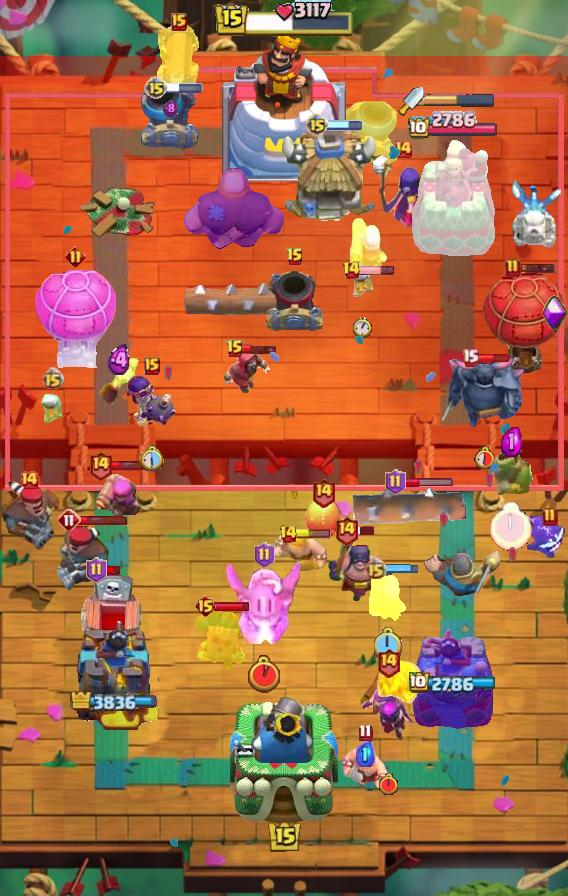bar: (403, 477, 454, 488), (78, 515, 128, 526), (110, 460, 160, 471), (519, 262, 556, 274), (242, 343, 278, 355), (476, 352, 511, 364), (214, 601, 251, 612), (358, 265, 395, 276), (384, 563, 420, 574), (327, 120, 363, 131), (165, 83, 203, 93), (295, 529, 331, 539), (356, 525, 376, 536), (105, 565, 122, 576)
bar-level: (376, 647, 401, 678), (334, 515, 359, 546), (311, 477, 336, 508), (88, 450, 113, 481), (57, 508, 81, 532), (305, 113, 329, 137), (144, 76, 168, 100), (194, 594, 217, 618), (86, 557, 107, 583), (254, 542, 275, 568), (385, 469, 406, 495), (364, 557, 387, 580), (41, 367, 64, 390), (65, 246, 86, 267), (19, 470, 39, 490), (393, 139, 413, 159), (279, 524, 298, 544), (342, 260, 361, 280), (226, 339, 244, 359), (286, 247, 304, 267), (462, 348, 479, 367), (542, 507, 558, 527), (505, 258, 521, 278), (144, 357, 160, 375), (171, 13, 187, 31), (358, 723, 373, 742)
barbarian: (333, 746, 397, 792), (274, 531, 328, 575)
bomber-evolution: (125, 373, 179, 429)
clock: (490, 502, 532, 551), (248, 655, 280, 693), (374, 627, 403, 661), (140, 445, 165, 472), (378, 773, 399, 796), (474, 446, 494, 469), (353, 317, 372, 338)
dagger-duchess-tower: (409, 138, 497, 256)
dagger-duchess-tower-bar: (424, 93, 496, 107)
dart-goblin: (193, 608, 251, 672)
electro-spirit: (526, 516, 568, 562)
elixir: (107, 344, 132, 377), (501, 427, 522, 457), (356, 741, 375, 767), (163, 99, 178, 118)
evolution-symbol: (542, 295, 568, 331)
executioner: (327, 526, 395, 604)
fire-spirit: (97, 358, 141, 404)
firecracker: (94, 467, 142, 521), (367, 565, 409, 623), (348, 215, 390, 273)
goblin-brawler: (488, 449, 534, 501)
hunter: (0, 478, 62, 550), (54, 524, 112, 594)
king-tower: (222, 31, 346, 181), (230, 692, 338, 826)
king-tower-bar: (213, 0, 355, 40)
knight: (419, 550, 505, 602)
mortar: (264, 267, 326, 335), (338, 100, 398, 164), (140, 84, 200, 148)
mother-witch: (360, 683, 416, 747)
phoenix-egg: (303, 497, 343, 541)
queen-tower: (66, 617, 162, 731), (411, 627, 495, 731)
skeleton: (349, 267, 375, 299), (41, 393, 63, 425)
the-log: (349, 486, 471, 530), (182, 279, 282, 321)
tower-bar: (407, 111, 499, 141), (409, 672, 498, 695), (70, 692, 158, 711)
witch: (365, 150, 441, 230)
wizard: (222, 347, 272, 397)
